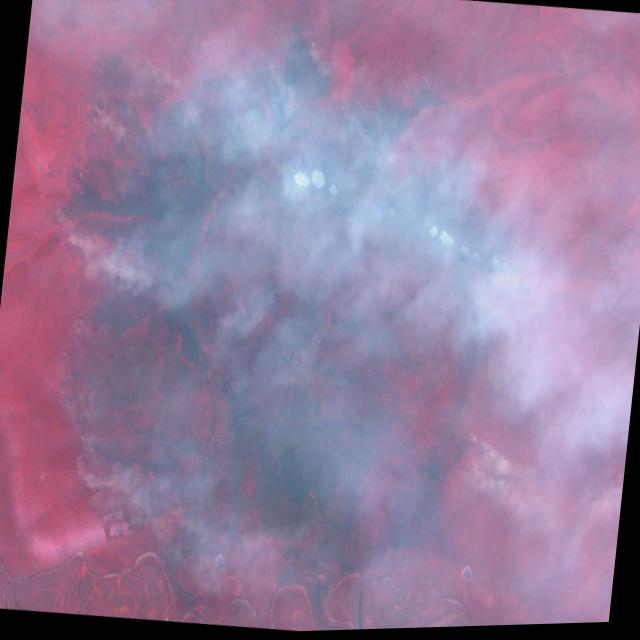fire: (14, 0, 544, 582)
